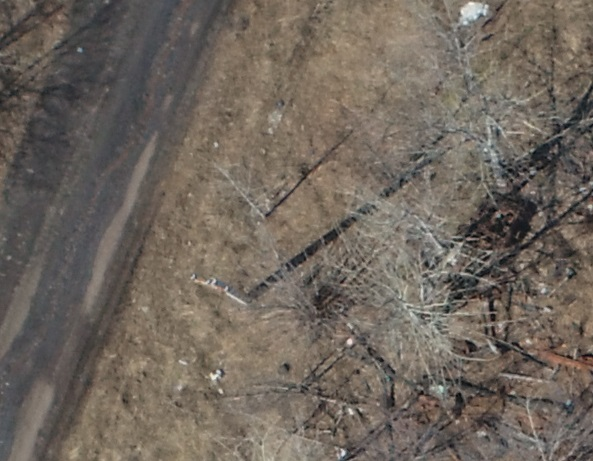opora: (191, 251, 293, 308)
